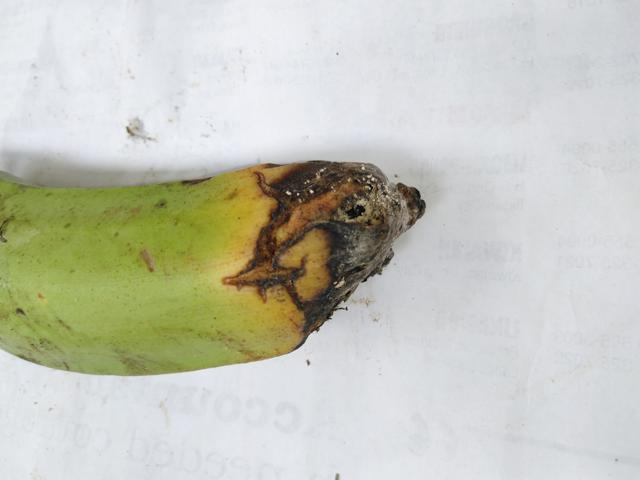rotten: (212, 144, 421, 369)
